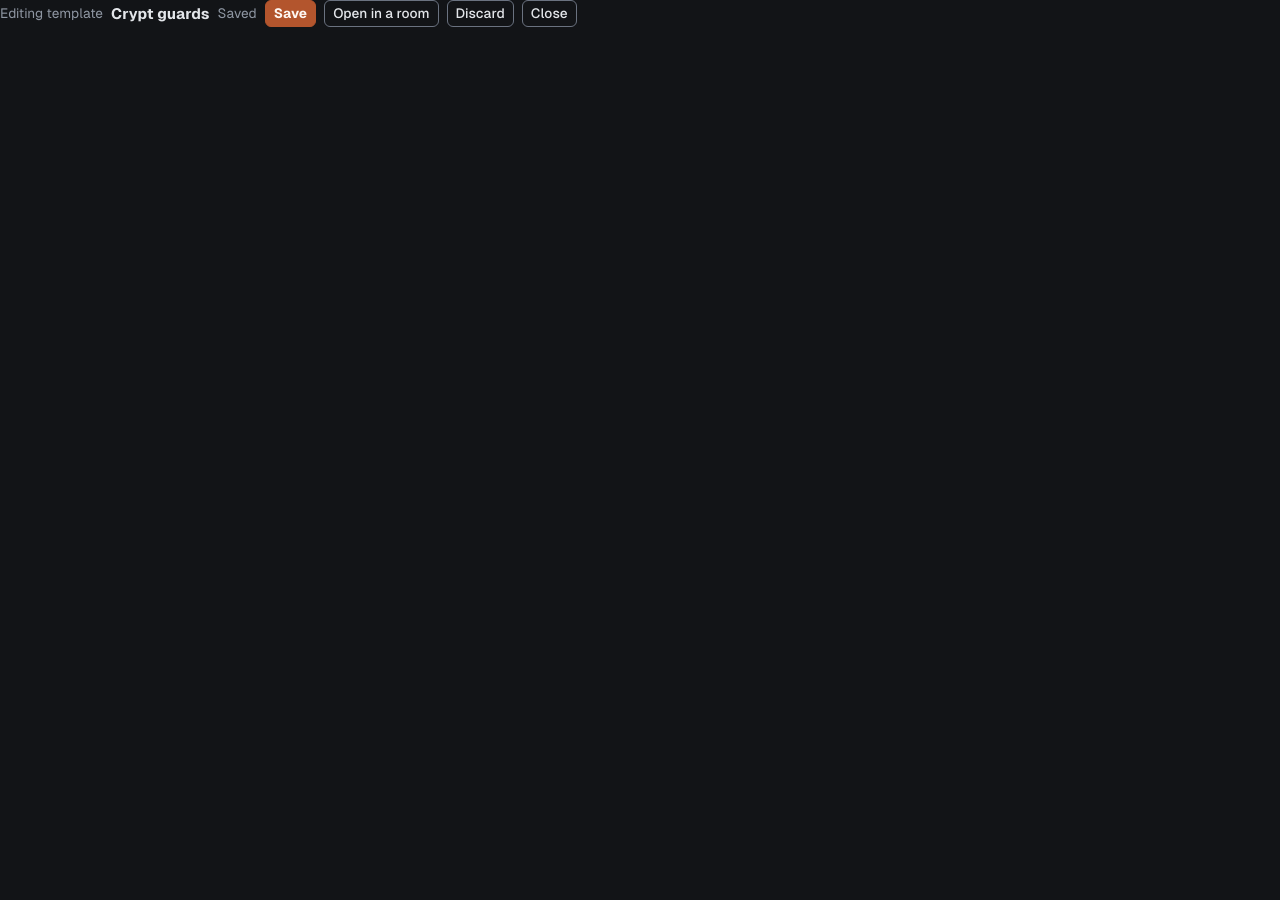
open a template in a room (encounter-templates, ADR 0033) › starts the GM's name as the account's (create-room-form-defaults)
The image size is (1280, 900).
Check: the heading "Crypt guards" is shown, box x1=111 y1=3 x2=210 y2=24
Click the button "Open in a room". click: [381, 14]
box: x1=324 y1=0 x2=439 y2=27
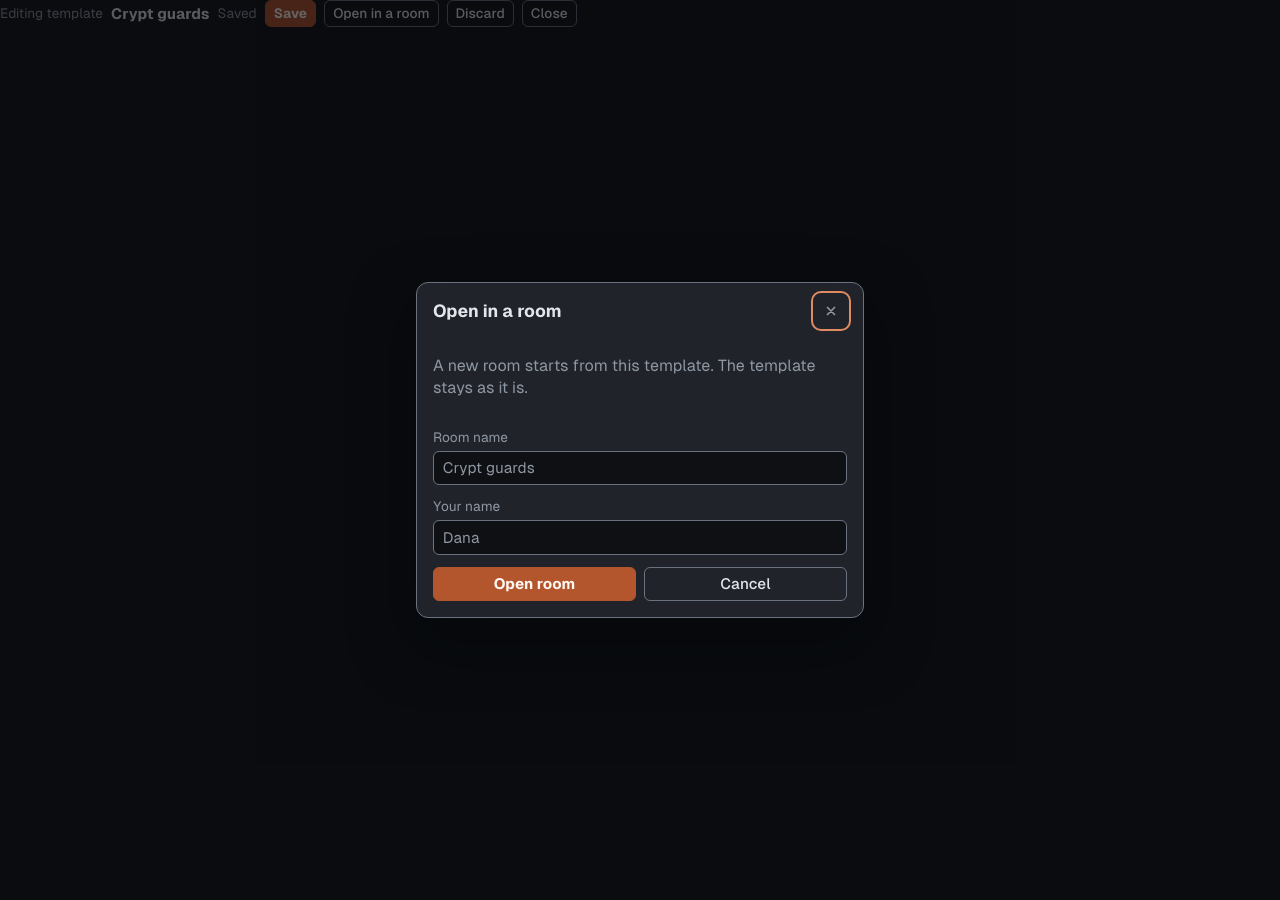
Check: the field labelled "Your name" holds "Dana", box x1=433 y1=520 x2=847 y2=555
